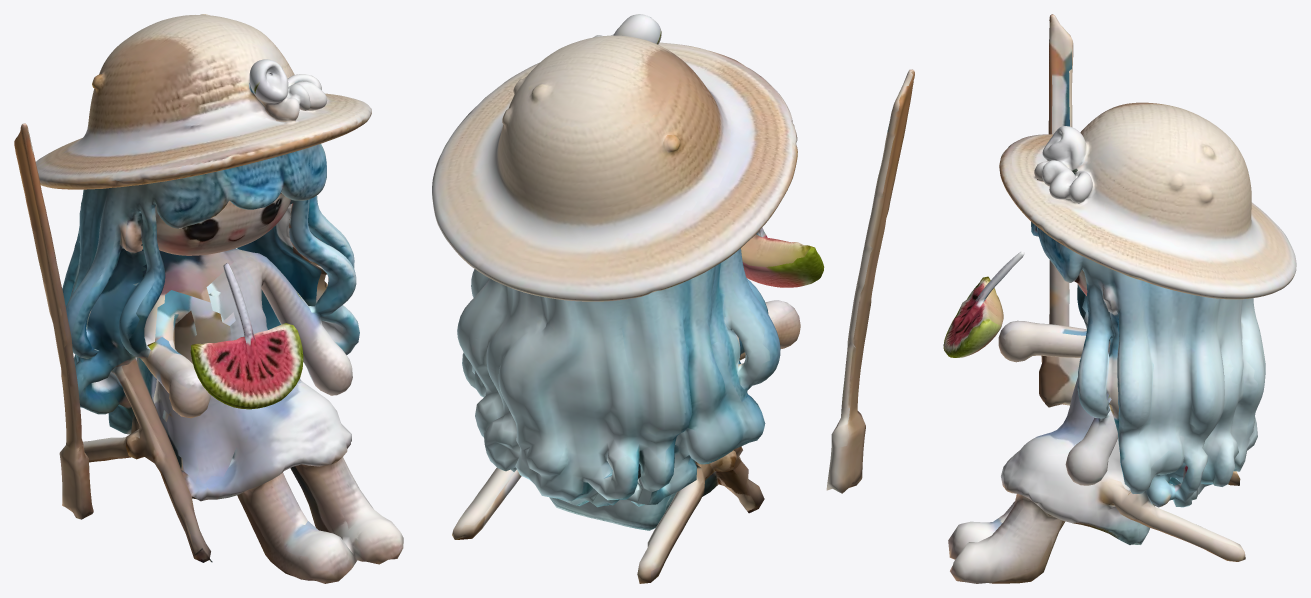
3 renders of one model, left to right at view 1: azimuth 30°, elevation 25°; view 2: azimuth 150°, elevation 25°; view 3: azimuth 270°, elevation 25°, orthographic. The views are drawn at different scales.
Parts seen in each view (by area): view 1: Doll; view 2: Doll; view 3: Doll.
Boxes of the visible parts, x1,y1,x2,y2 form: Doll: (14, 14, 403, 583); Doll: (432, 14, 914, 583); Doll: (943, 14, 1296, 583).
Size of the model in its own units: 0.1356 by 0.17 by 0.121.
Materials: 1 (1 with a texture image).
